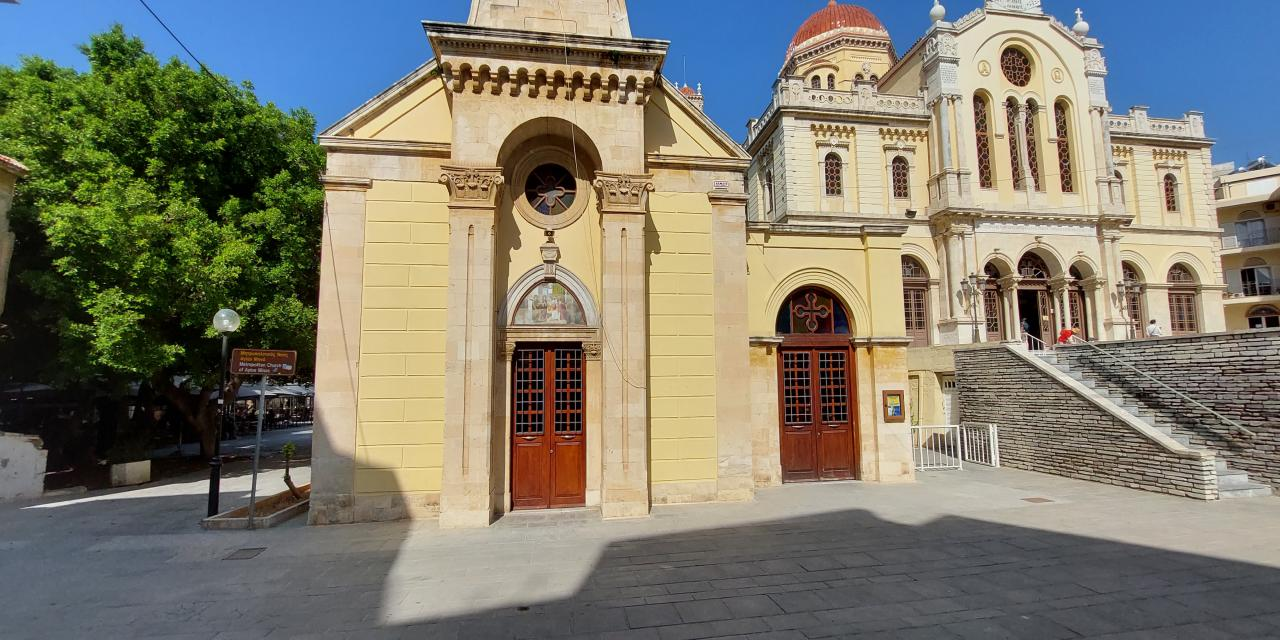Agios Minas: (300, 1, 1238, 530)
